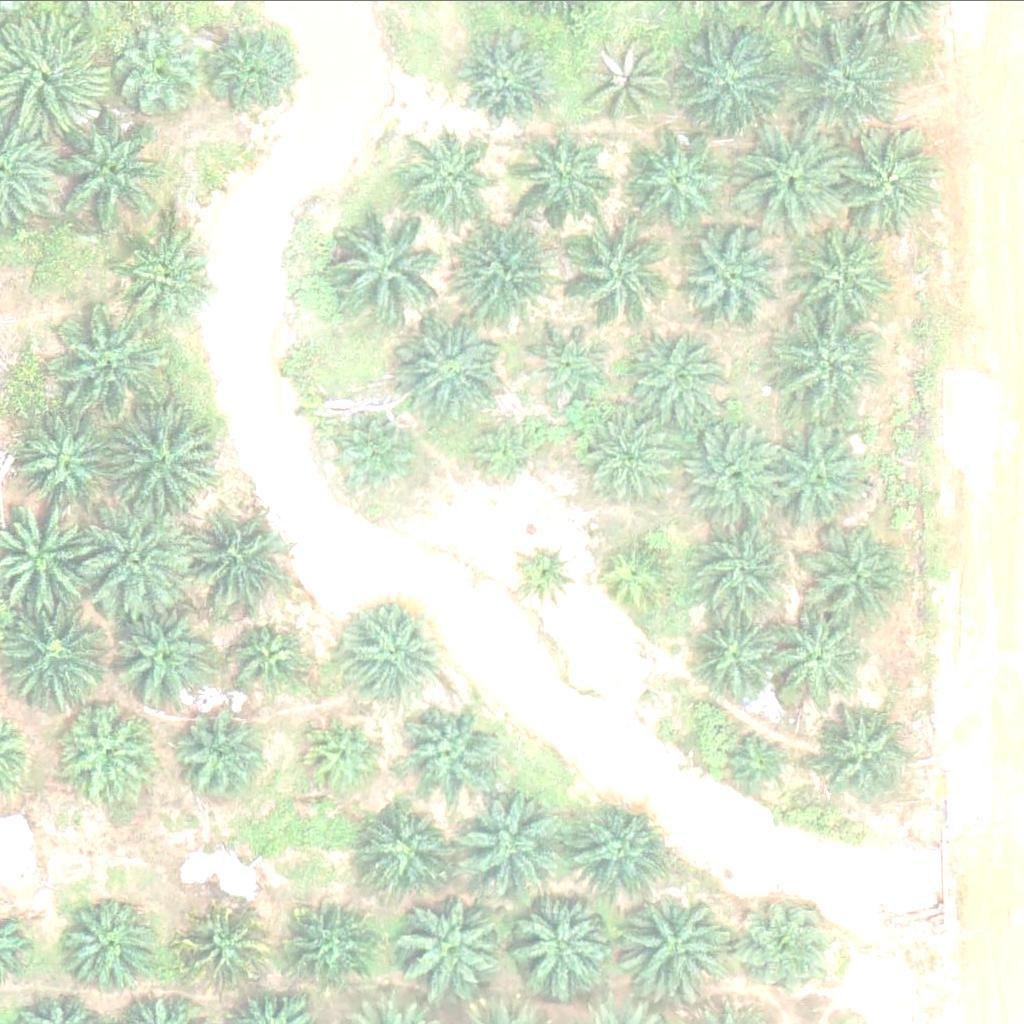Kelapa_Sawit: (107, 406, 221, 519), (835, 122, 948, 235), (325, 209, 438, 322), (398, 315, 511, 428), (676, 417, 789, 530), (764, 420, 877, 533), (803, 518, 916, 631), (449, 789, 562, 902), (393, 888, 506, 1001), (504, 884, 617, 997), (3, 599, 116, 712), (556, 211, 670, 323), (773, 313, 887, 425), (794, 18, 907, 130), (673, 22, 786, 134), (49, 118, 162, 230), (735, 124, 848, 236), (792, 223, 905, 335), (453, 220, 566, 332), (49, 307, 162, 419), (82, 499, 195, 611), (616, 886, 729, 998), (519, 130, 620, 230), (681, 228, 782, 328), (112, 611, 213, 711), (632, 328, 733, 428), (698, 520, 799, 620), (689, 605, 790, 705), (570, 803, 671, 903), (815, 703, 916, 803), (54, 891, 155, 991), (743, 895, 844, 995), (13, 412, 114, 512), (201, 20, 301, 120), (454, 29, 554, 129), (623, 130, 723, 230), (122, 223, 222, 323), (187, 513, 287, 613), (347, 603, 447, 703), (580, 405, 680, 505), (769, 610, 869, 710), (55, 700, 155, 800), (400, 697, 500, 797), (108, 28, 196, 116), (526, 317, 614, 405), (334, 412, 422, 500), (172, 715, 260, 803), (367, 804, 455, 892), (178, 904, 266, 992), (585, 33, 673, 120), (415, 131, 503, 218), (286, 902, 374, 989), (303, 716, 379, 791), (229, 621, 304, 696), (465, 413, 540, 488), (603, 537, 678, 612), (727, 722, 802, 797), (516, 540, 579, 603)
